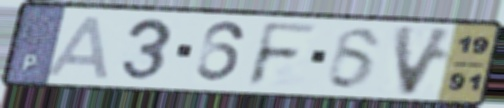3: (117, 16, 177, 84)
6: (323, 26, 385, 91), (194, 19, 248, 86)
A: (43, 14, 114, 81)
F: (243, 20, 323, 89)
V: (390, 22, 458, 98)
